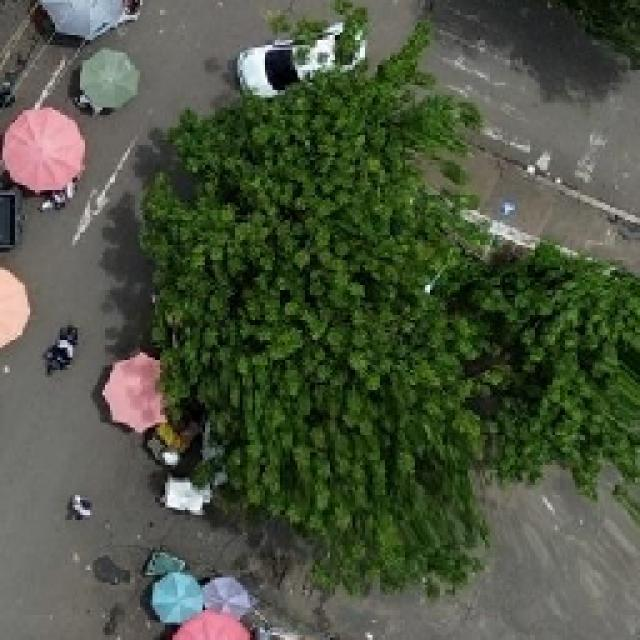vendedor_ambulante: (2, 105, 95, 197), (101, 352, 176, 432), (68, 40, 144, 116), (29, 0, 142, 42), (149, 572, 207, 628), (198, 571, 253, 623), (0, 258, 30, 352), (172, 610, 255, 640)
